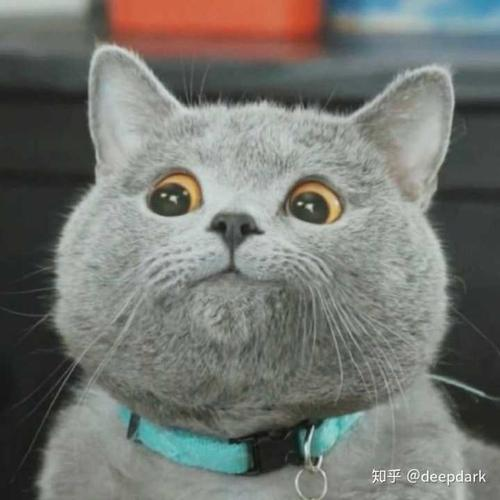cat: (75, 30, 465, 426)
